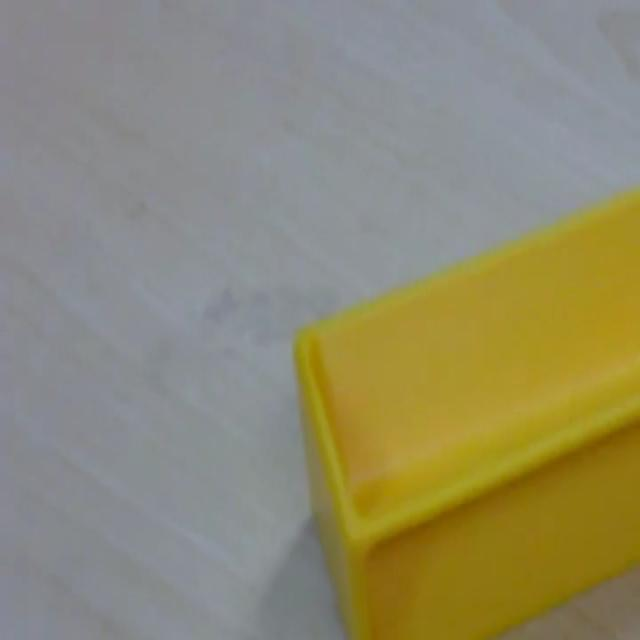yellow_block: (292, 185, 638, 636)
